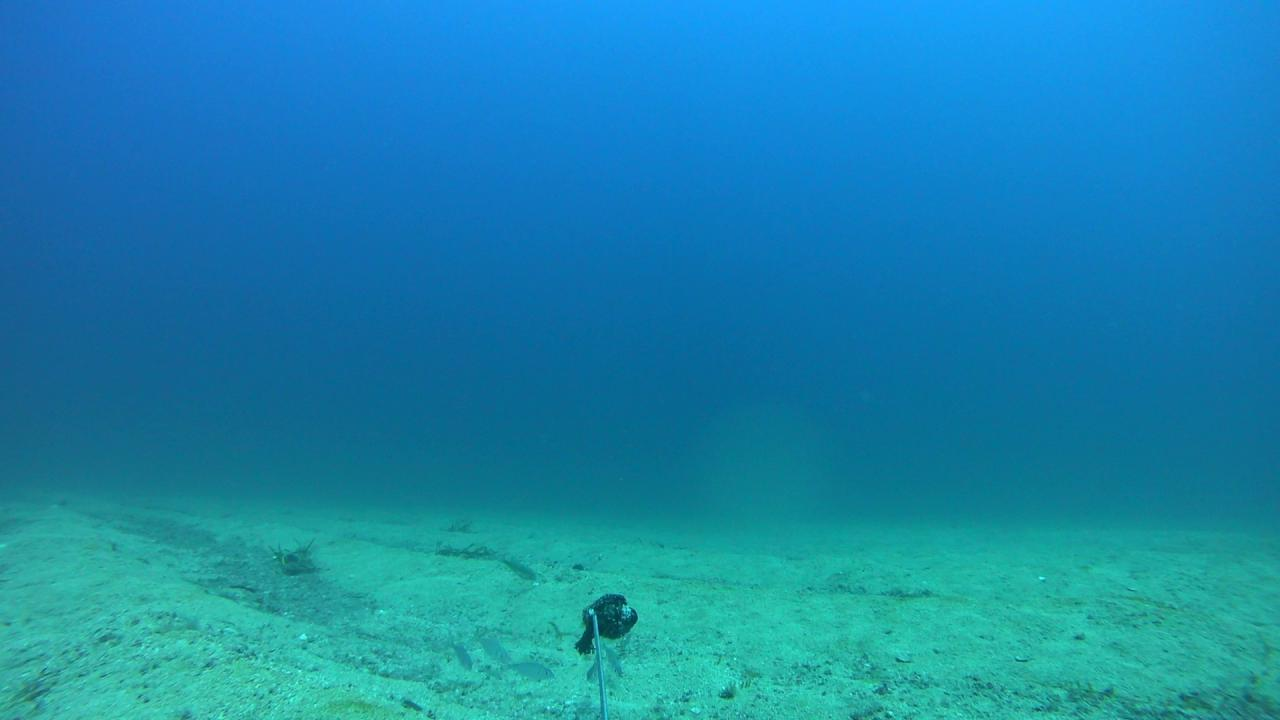pagellus: (444, 634, 474, 676), (474, 634, 514, 662), (498, 661, 552, 681), (607, 650, 625, 682)
